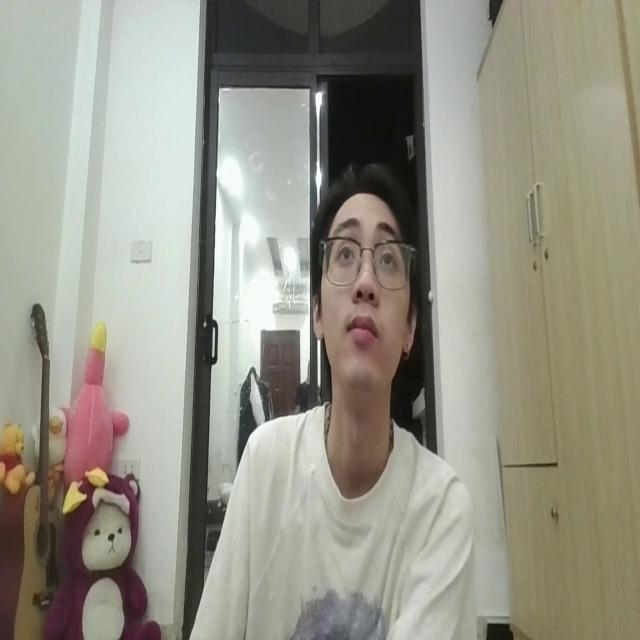student: (188, 159, 477, 640)
